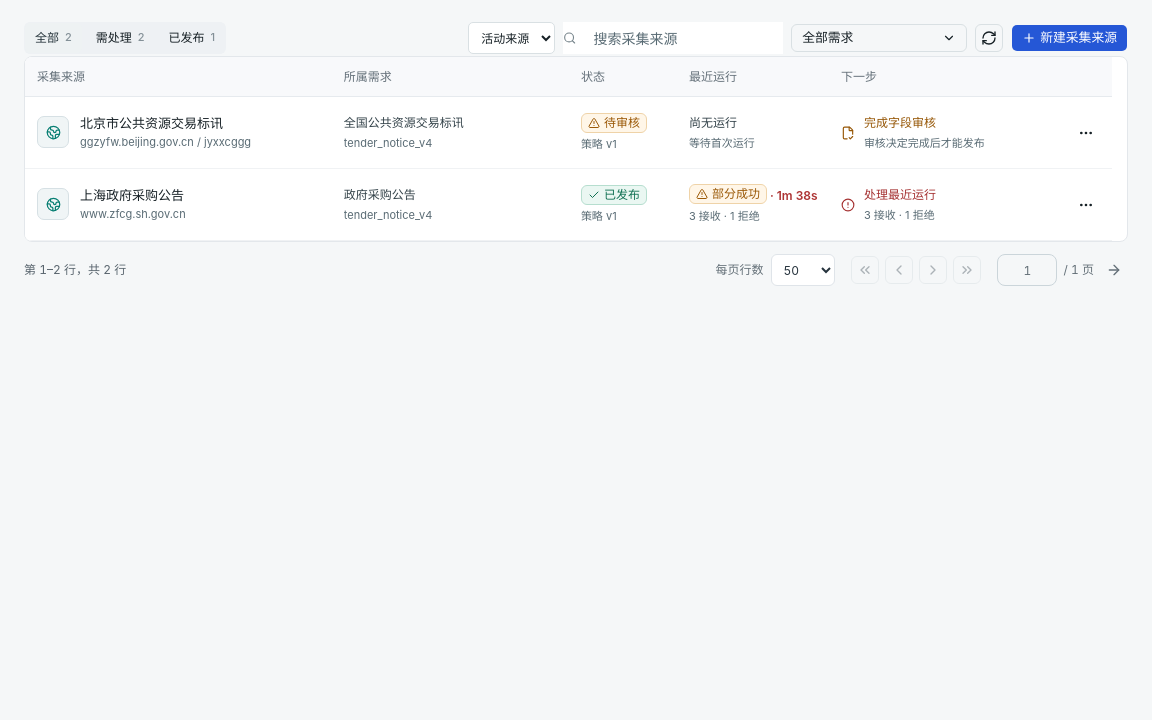
Test case: CollectorsPage operational list › searches Collection options before filtering the list
Step 1. Click the dropdown named "按采集需求筛选" → (879, 38), box [791,24,967,52]
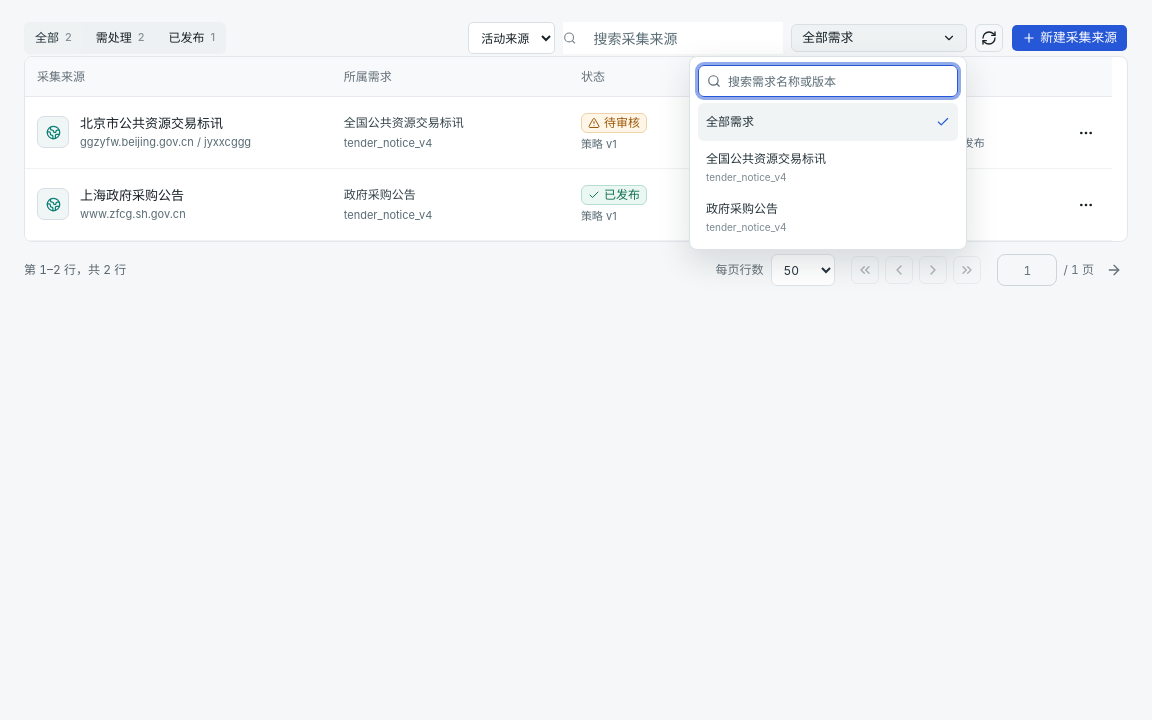
Step 2. Type "政府采购" into the field named "搜索采集需求" → (828, 81), box [698,65,958,97]
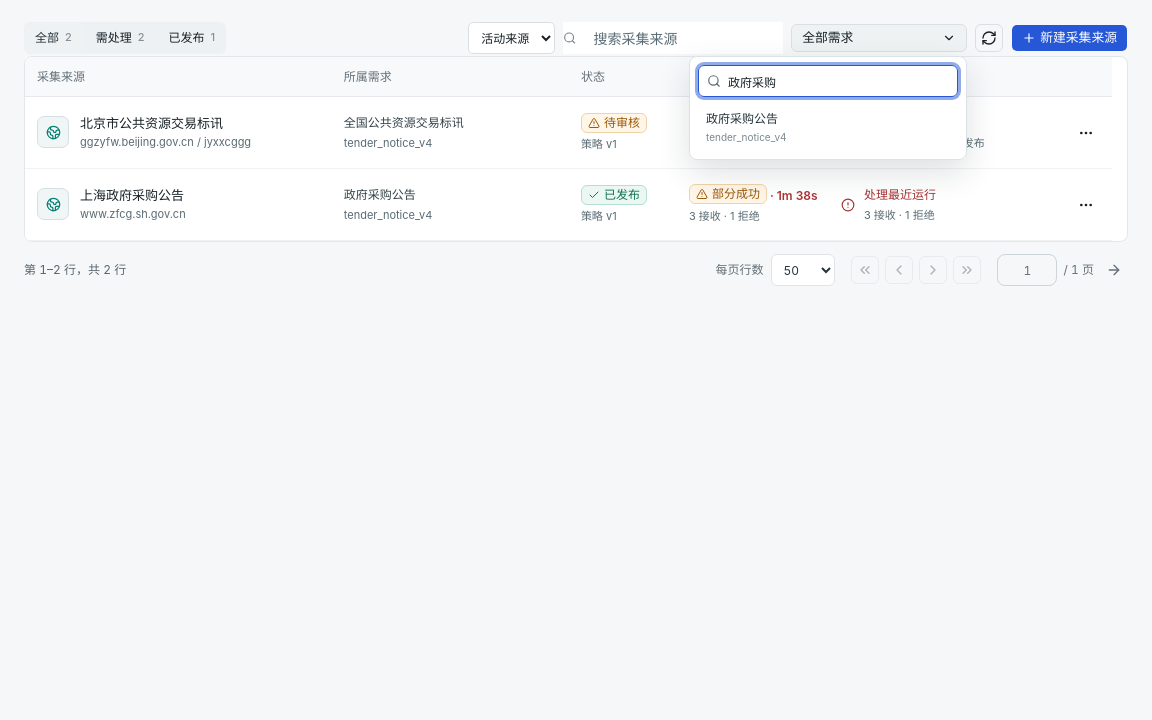
Now the option "政府采购公告 tender_notice_v4" is shown
Step 3. Click the option "政府采购公告 tender_notice_v4" → (742, 118), box [698,103,958,151]
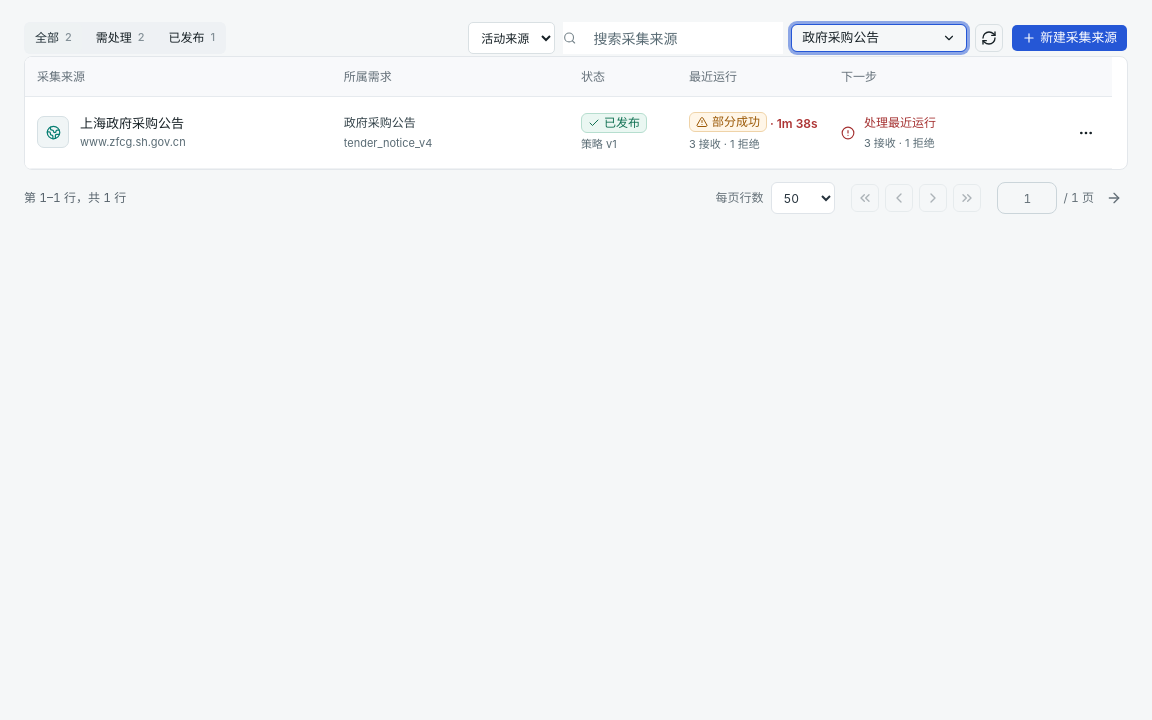
Now the dropdown named "按采集需求筛选" reads "政府采购公告", box [791,24,967,52]
